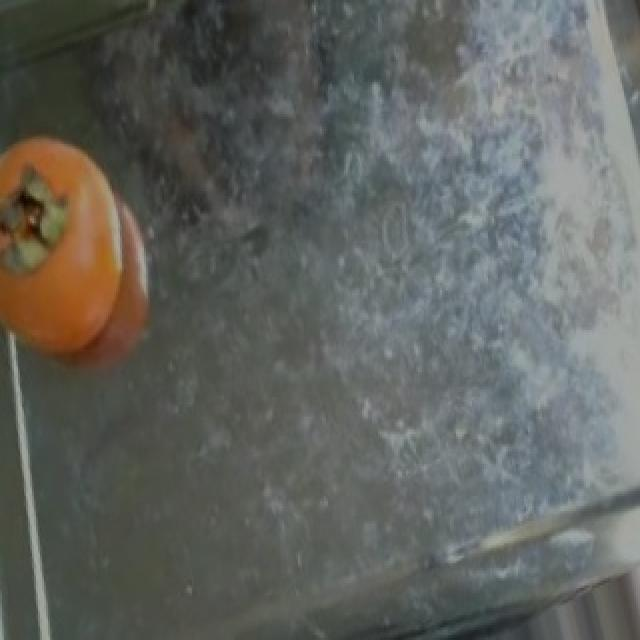Fruit: (0, 114, 156, 392)
